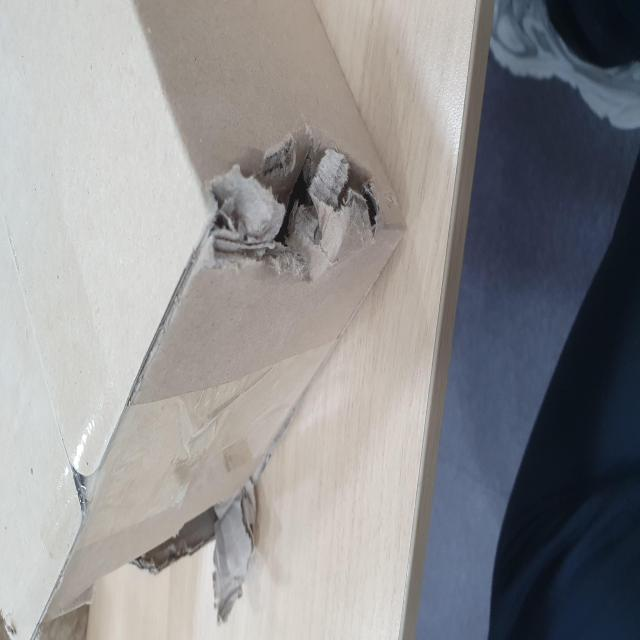damaged: (205, 364, 288, 640), (33, 238, 86, 429)
